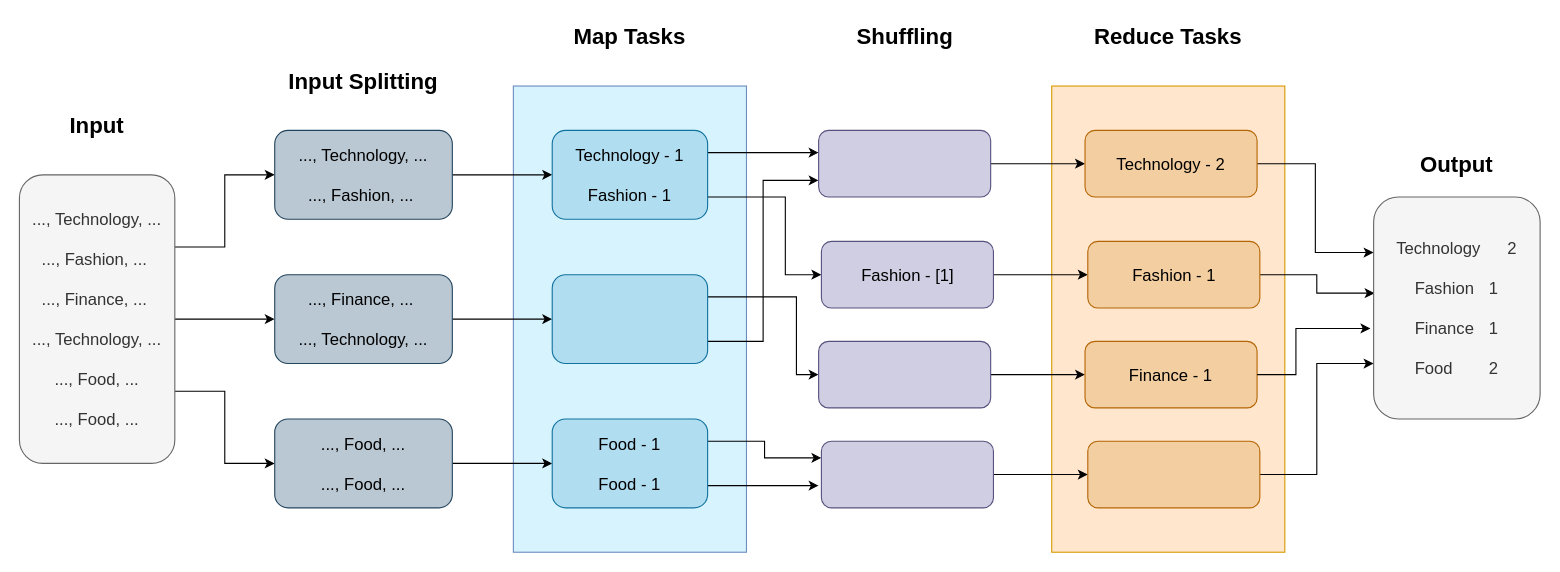
This 1560x572 diagram has some shape labels left out. Here are the shapes that lost their labels. From the top down, the centre of each, then its label:
At (x=904, y=163): "Technology - [1, 1]".
At (x=629, y=319): "Finance - 1 Technology - 1".
At (x=904, y=374): "Finance - [1]".
At (x=906, y=474): "Food - [1, 1]".
At (x=1173, y=474): "Food - 2".
